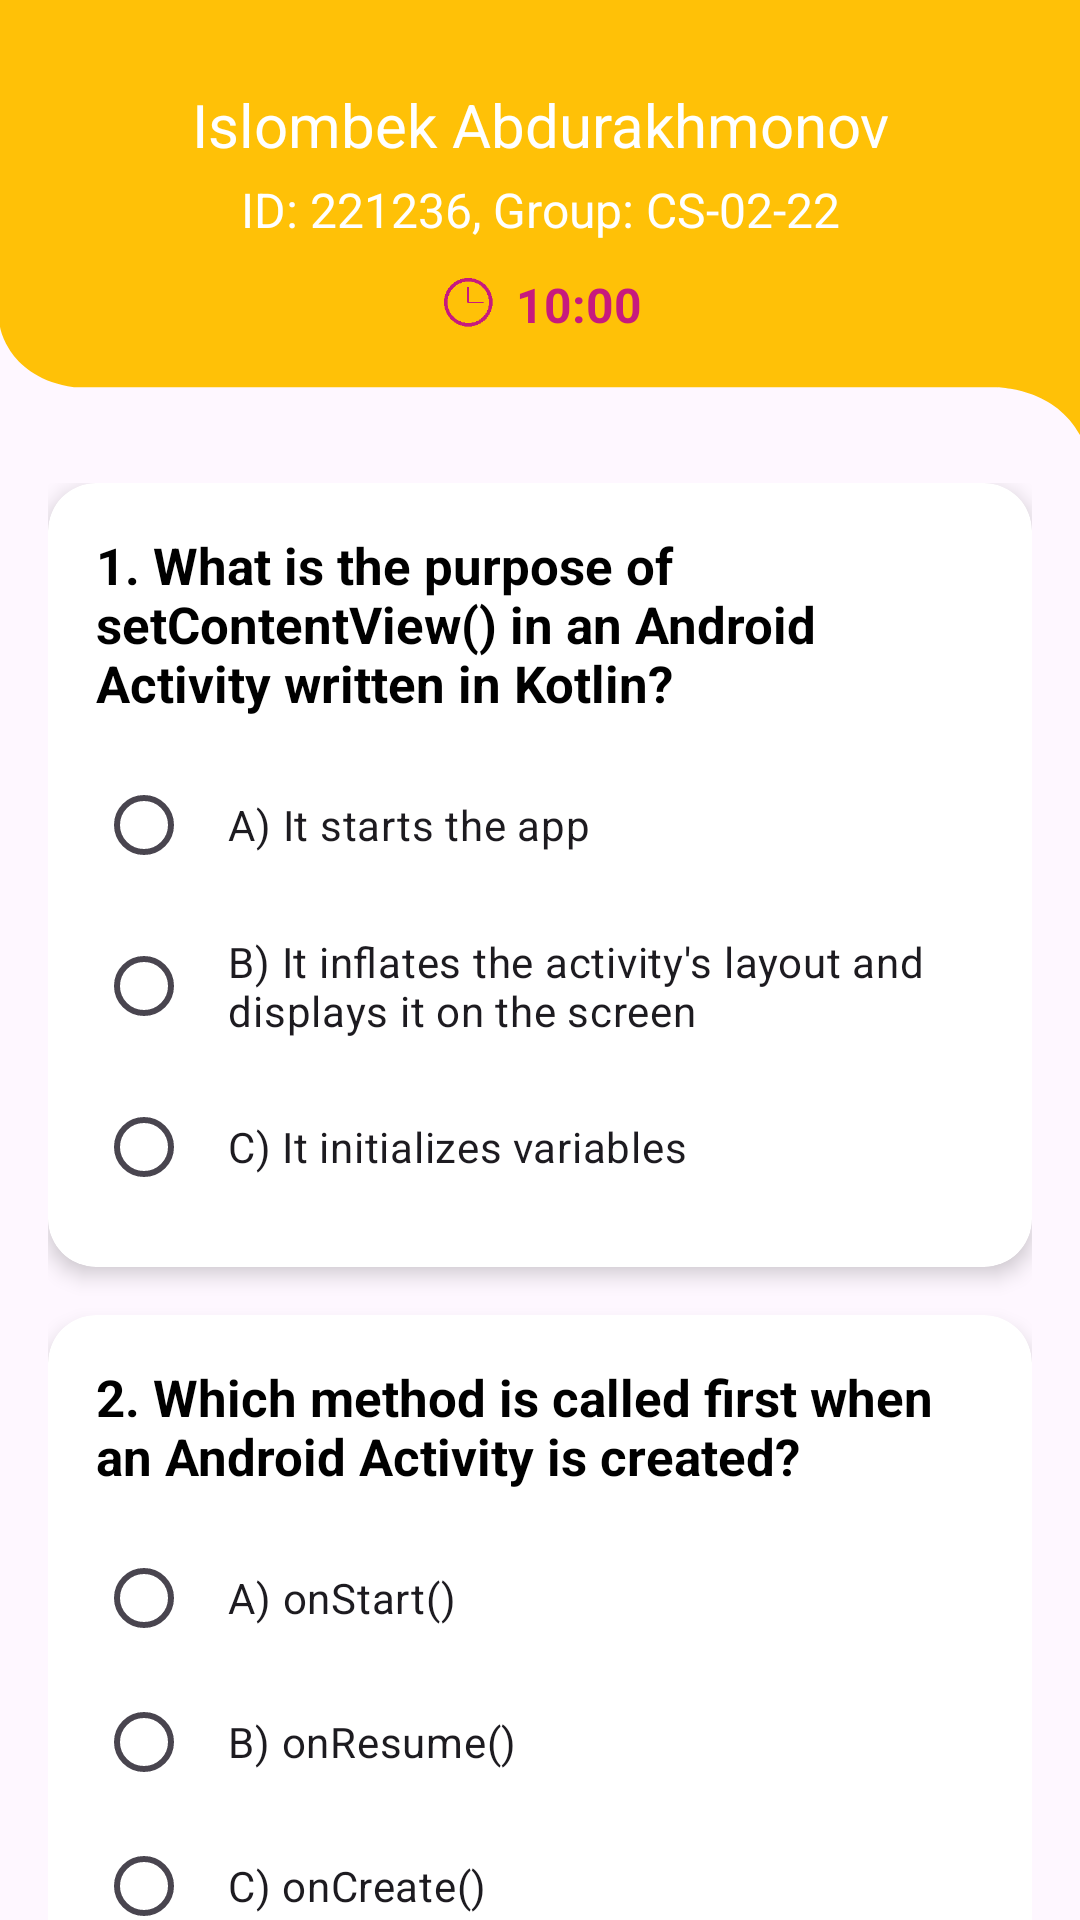

Named icons in this screenshot (1080*1920) and their bounding boxes, bbox=[x1, y1, x2, y2]:
timer: bbox=[444, 278, 493, 327]
